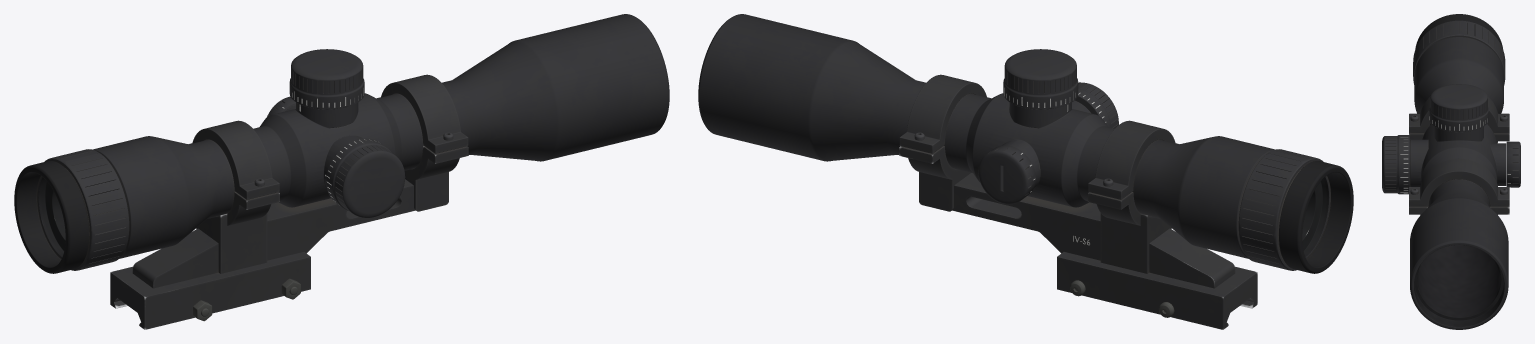
Rendered from IVS6_Scope.glb.
The picture shows the model from 3 angles, left to right: view 1: azimuth 30°, elevation 25°; view 2: azimuth 150°, elevation 25°; view 3: azimuth 270°, elevation 25°; orthographic projection. The views are drawn at different scales.
Visible parts, largest first — view 1: SM_IVS6_Scope; view 2: SM_IVS6_Scope; view 3: SM_IVS6_Scope, IVS6_Glass.
Part boxes in pixels (x1,y1,x2,y2): SM_IVS6_Scope: (14,14,669,329); SM_IVS6_Scope: (698,14,1353,329); SM_IVS6_Scope: (1382,14,1520,329); IVS6_Glass: (1419,245,1499,316).
Bounding box in the file's own units: 0.27 × 0.0895 × 0.068.
Materials: 4 (2 with a texture image).
